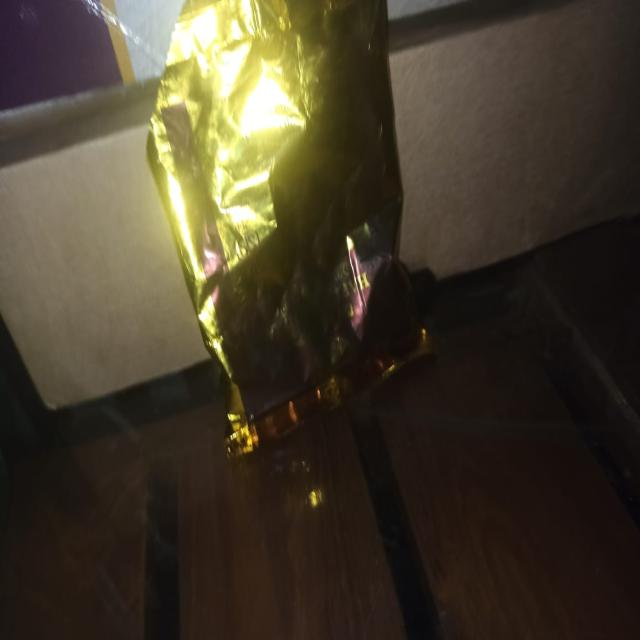Harischandra Coffee: (155, 0, 447, 480)
